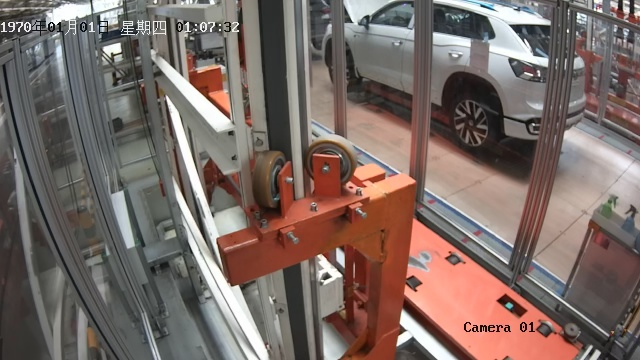good_wheel: (302, 135, 356, 191), (247, 147, 292, 212)
